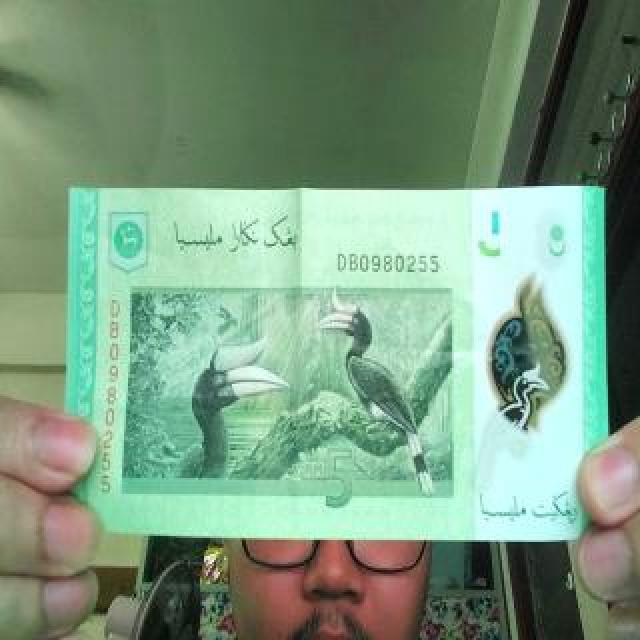5 Ringgit: (70, 192, 619, 543)
